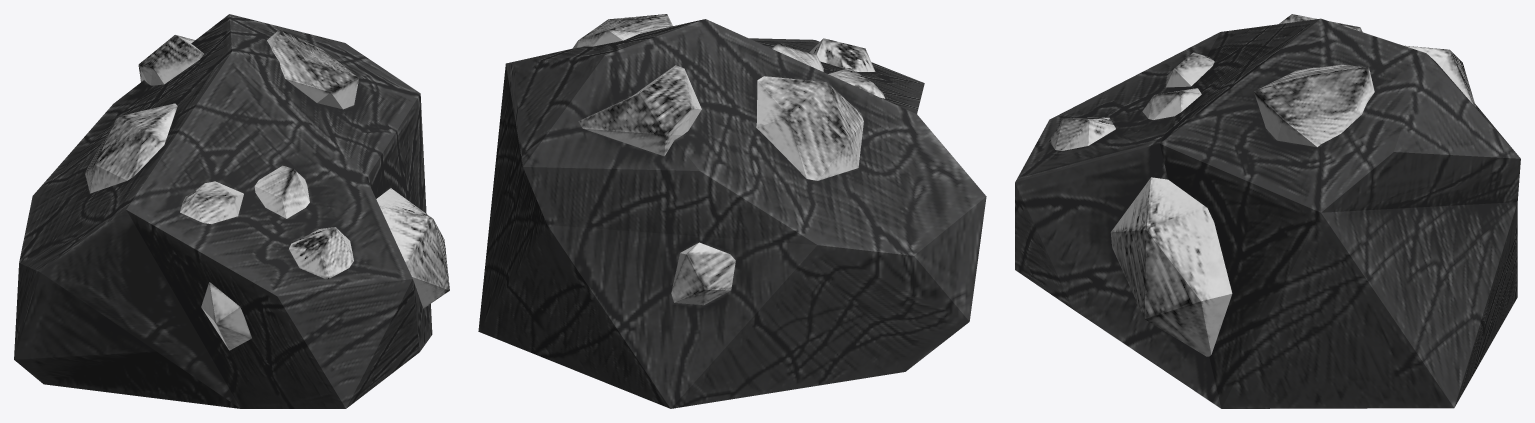
Rendered from silver.glb.
3 renders of one model, left to right at view 1: azimuth 30°, elevation 25°; view 2: azimuth 150°, elevation 25°; view 3: azimuth 270°, elevation 25°, orthographic. The views are drawn at different scales.
Parts seen in each view (by area): view 1: silver; view 2: silver; view 3: silver.
Boxes of the visible parts, x1=… form: silver: x1=14, y1=14, x2=449, y2=408; silver: x1=478, y1=14, x2=986, y2=408; silver: x1=1015, y1=14, x2=1520, y2=408.
Bounding box in the file's own units: 0.7885 × 0.6 × 0.7591.
1 material, 1 textured.
